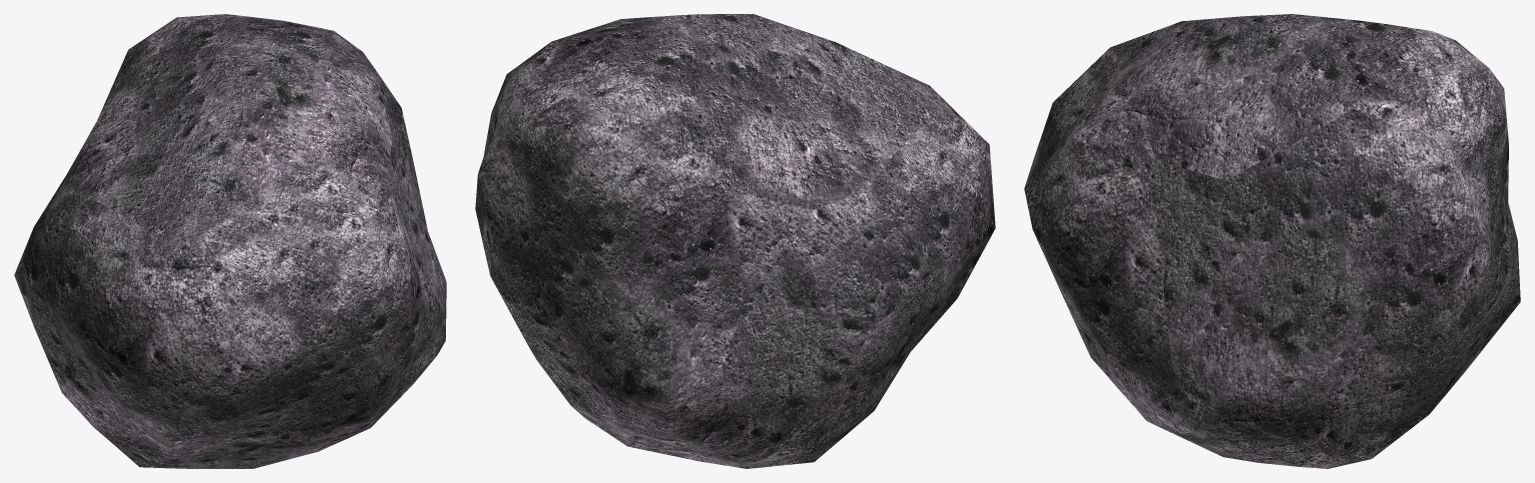
File: ast_upg_02.FBX
The picture shows the model from 3 angles, left to right: view 1: azimuth 30°, elevation 25°; view 2: azimuth 150°, elevation 25°; view 3: azimuth 270°, elevation 25°; orthographic projection. The views are drawn at different scales.
Parts seen in each view (by area): view 1: ast_upg_02; view 2: ast_upg_02; view 3: ast_upg_02.
Boxes of the visible parts, bbox=[...] form: ast_upg_02: bbox=[14, 14, 446, 468]; ast_upg_02: bbox=[475, 14, 995, 468]; ast_upg_02: bbox=[1024, 14, 1520, 468].
Bounding box in the file's own units: 77.62 × 78.29 × 79.48.
